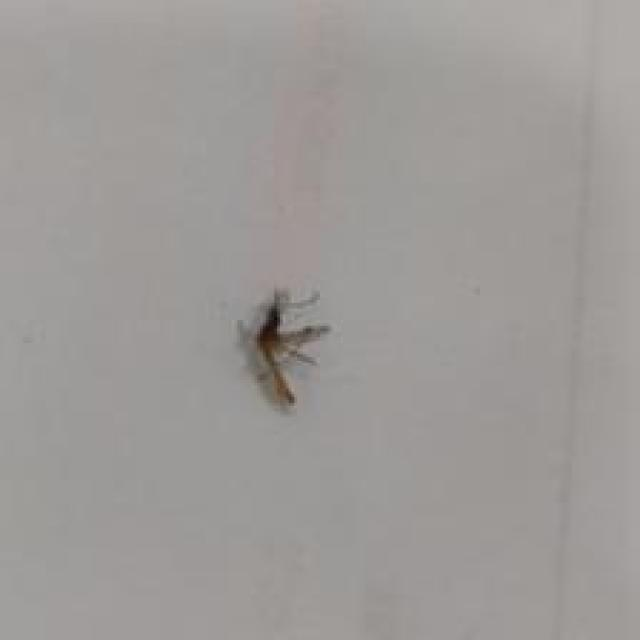Culex: (236, 286, 330, 411)
